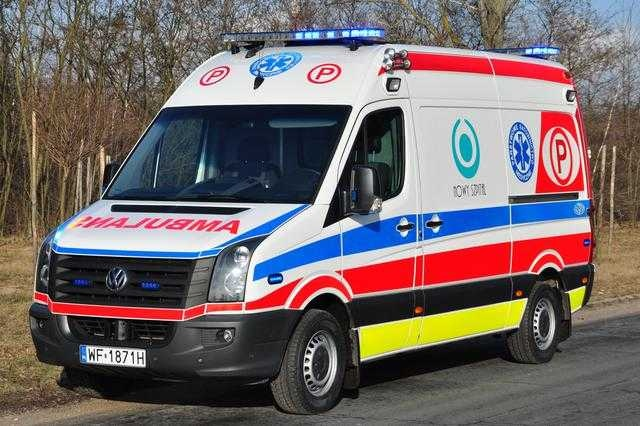Ambulance: (34, 24, 601, 396)
